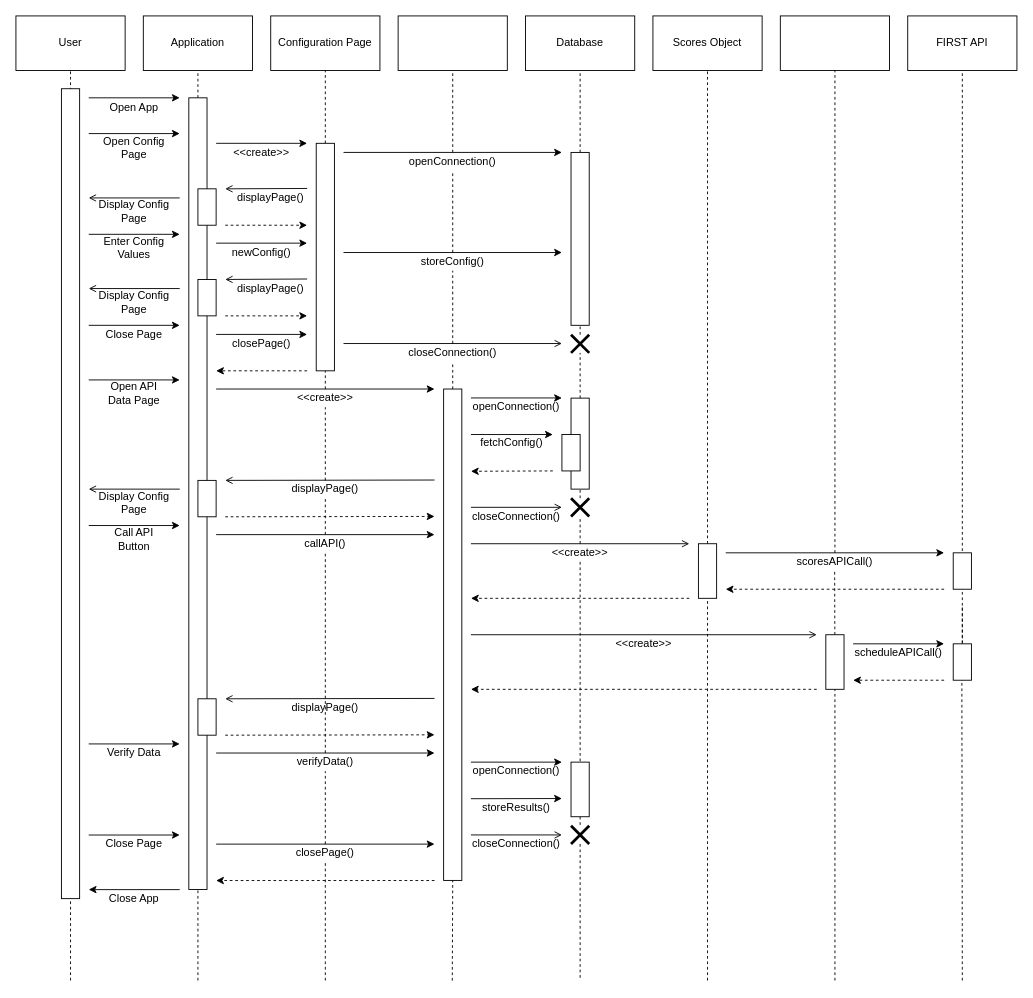
Image size: 1033x998. Some labels were removed from this diagram. Here are the shapes that lost their labels. From the top down, the box of each, then its label:
(397, 15, 507, 71): API Data Page
(779, 15, 890, 71): Schedule Object
